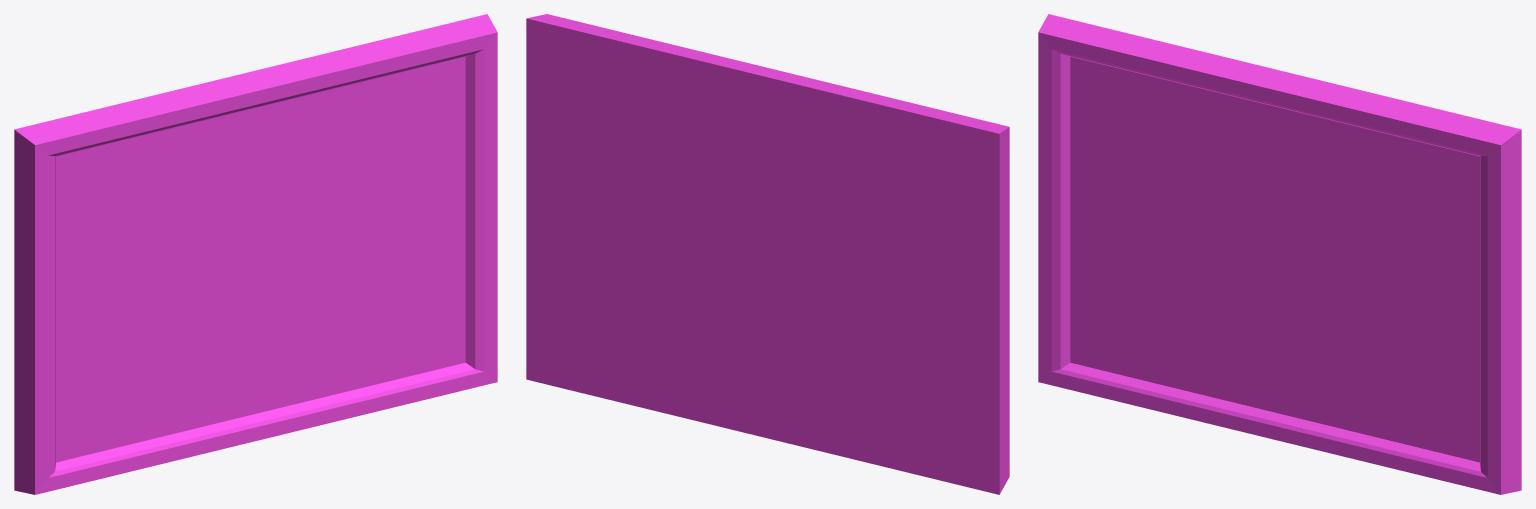
Rendered from SM_Picture_Siren_Painting_Fantasy.fbx.
The picture shows the model from 3 angles, left to right: view 1: azimuth 30°, elevation 25°; view 2: azimuth 150°, elevation 25°; view 3: azimuth 330°, elevation 25°; orthographic projection.
Visible parts, largest first — view 1: SM_Picture_Siren_Painting_Fantasy; view 2: SM_Picture_Siren_Painting_Fantasy; view 3: SM_Picture_Siren_Painting_Fantasy.
Boxes of the visible parts, <box> form: SM_Picture_Siren_Painting_Fantasy: <box>14,14,497,494</box>; SM_Picture_Siren_Painting_Fantasy: <box>526,14,1009,494</box>; SM_Picture_Siren_Painting_Fantasy: <box>1038,14,1521,494</box>.
Bounding box in the file's own units: 1.76 × 1.29 × 0.1005.
